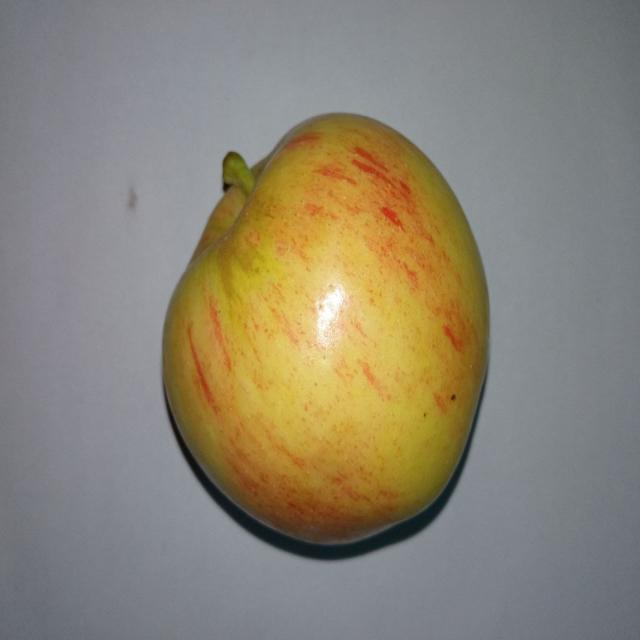fresh_apple: (157, 111, 491, 546)
